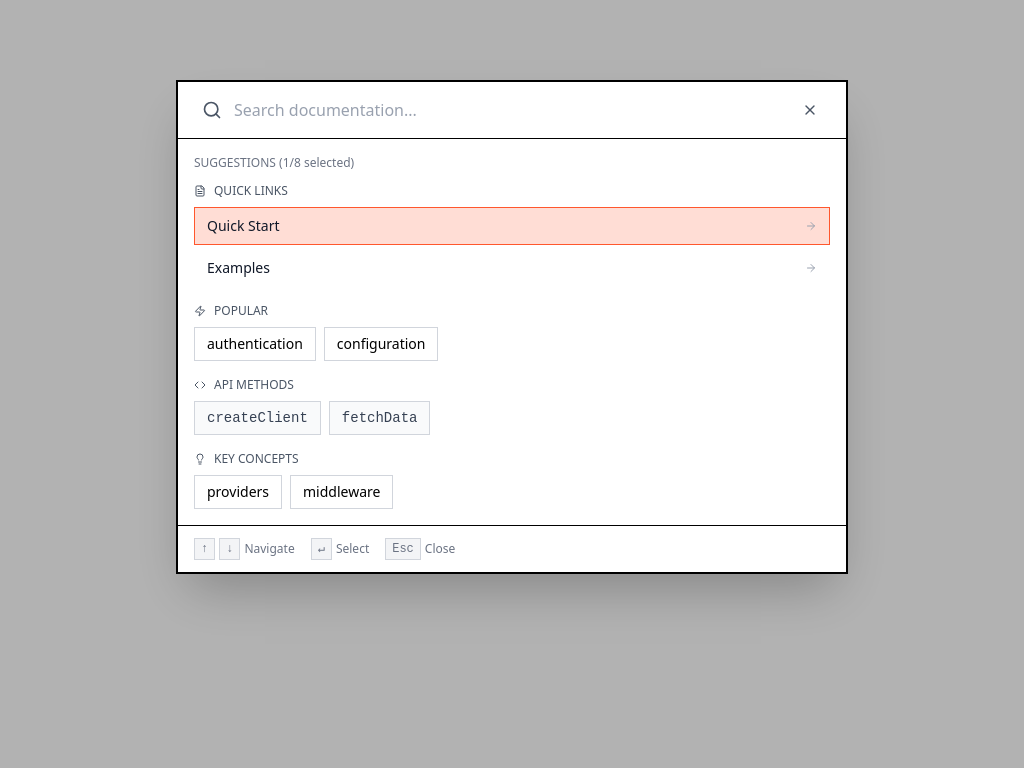
Test: SearchModal › User Interactions › should populate search query when clicking non-quick-link suggestion
Click the button "authentication" at (255, 344), box [194,327,316,361]
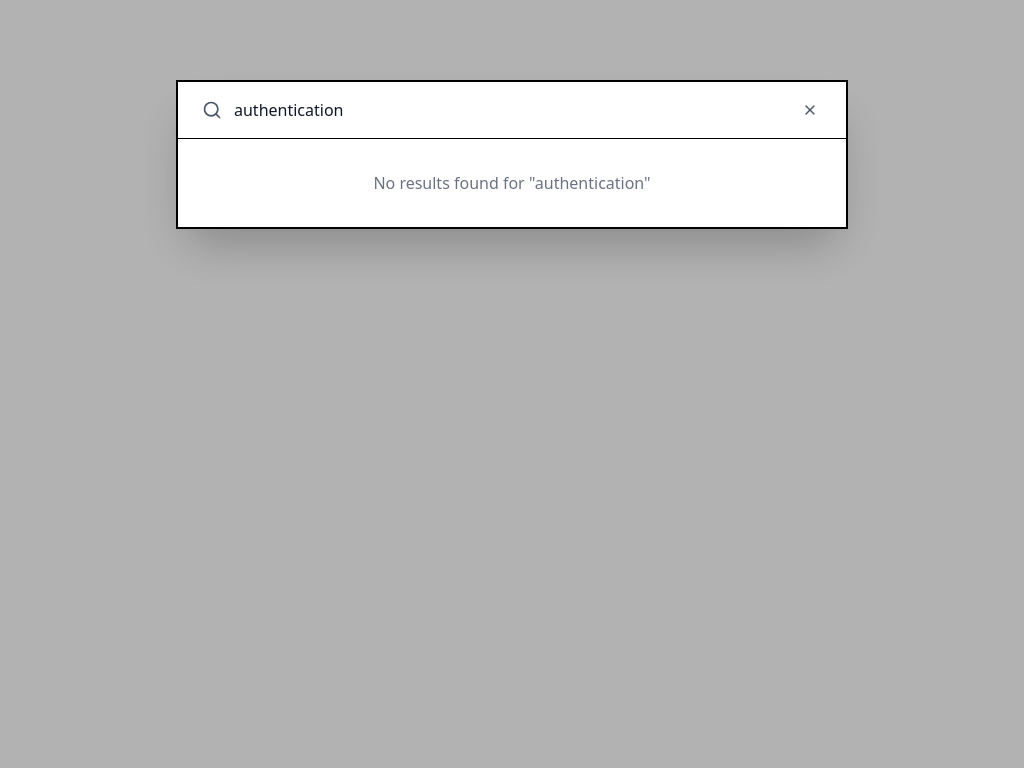
Expected: the field with placeholder "Search documentation..." holds "authentication", [234,98,786,122]
Expected: the button "Quick Start" is gone
